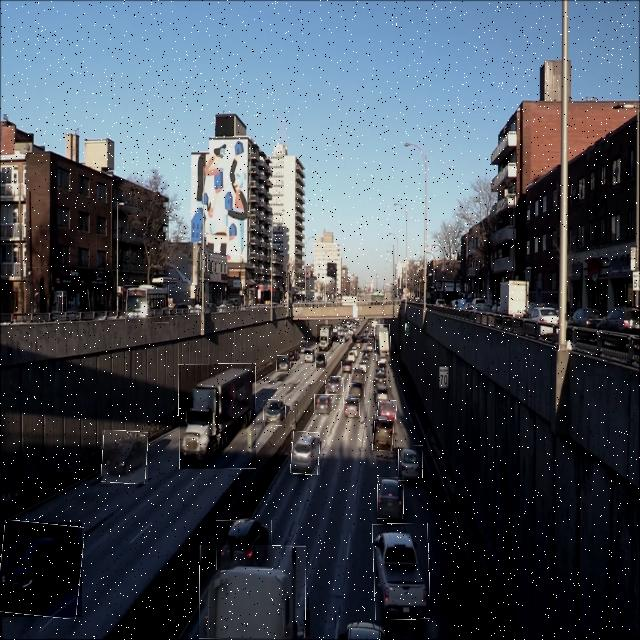Bus: (125, 285, 169, 323)
Car: (0, 522, 82, 617), (216, 520, 272, 570), (102, 430, 148, 484), (291, 432, 320, 475), (377, 477, 404, 519), (399, 445, 423, 481), (373, 415, 394, 451), (264, 400, 286, 426), (378, 400, 397, 420), (314, 394, 333, 413), (343, 396, 360, 417), (326, 377, 344, 395), (349, 383, 365, 399), (276, 355, 291, 372), (376, 384, 390, 402), (350, 369, 366, 384), (316, 352, 326, 370), (304, 349, 316, 363), (341, 360, 352, 374), (302, 338, 310, 354), (290, 350, 298, 362)
Truck: (199, 545, 306, 640), (179, 364, 256, 469), (373, 524, 430, 620), (374, 324, 390, 361), (317, 324, 333, 352)
